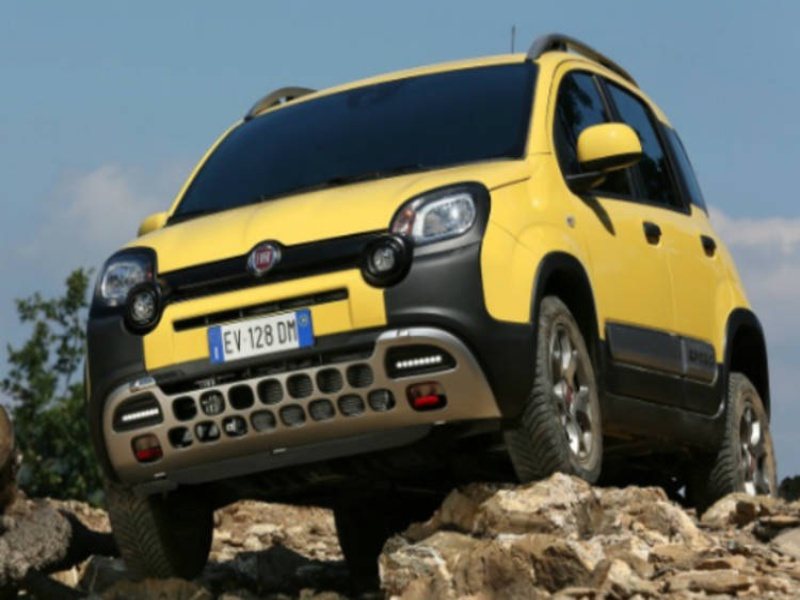licence_plate: (200, 315, 325, 363)
